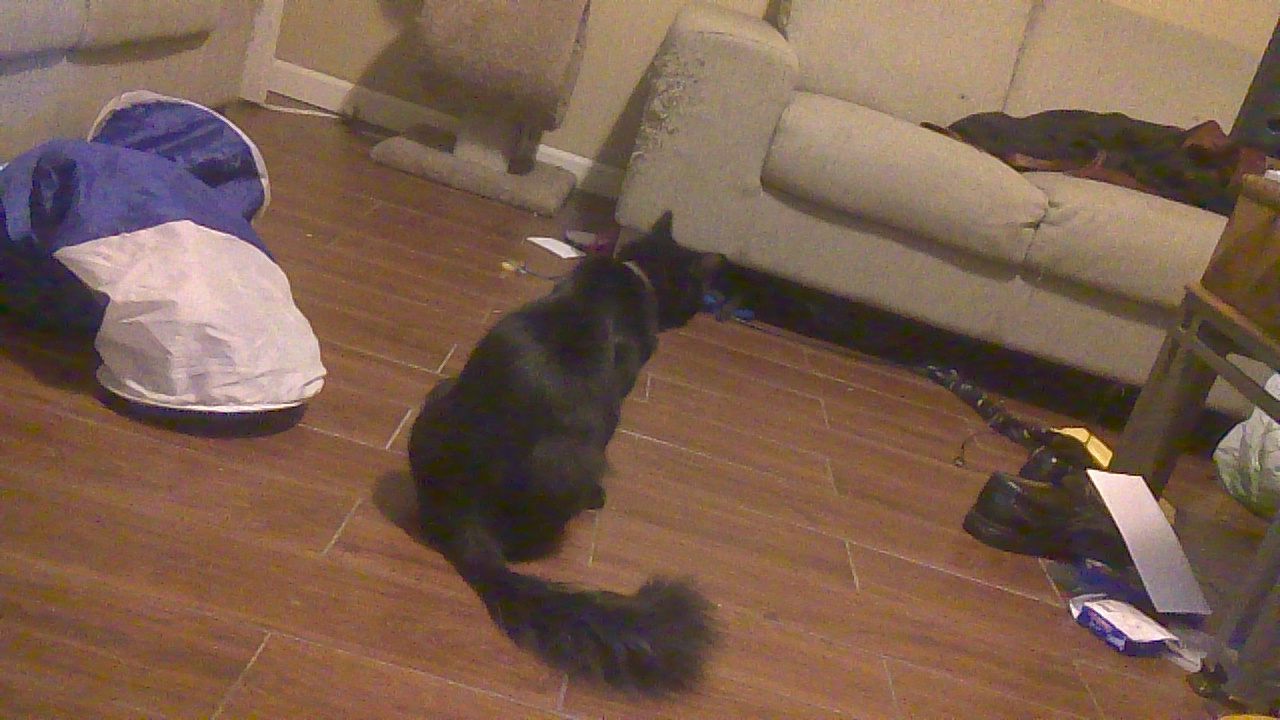cat: (406, 208, 739, 704)
